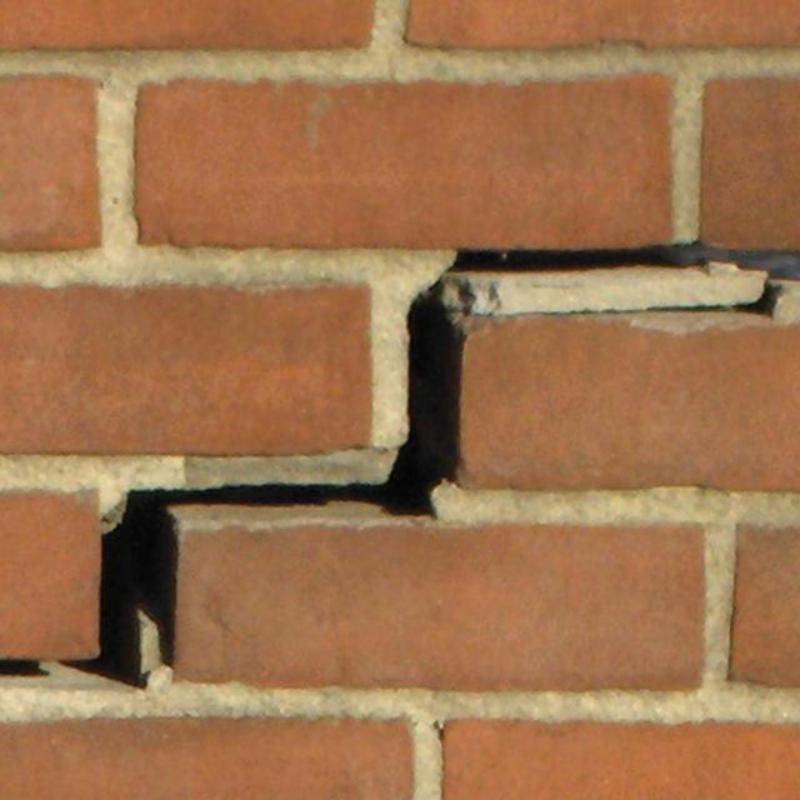pothole: (66, 267, 464, 684), (452, 241, 799, 315), (0, 660, 48, 677)
